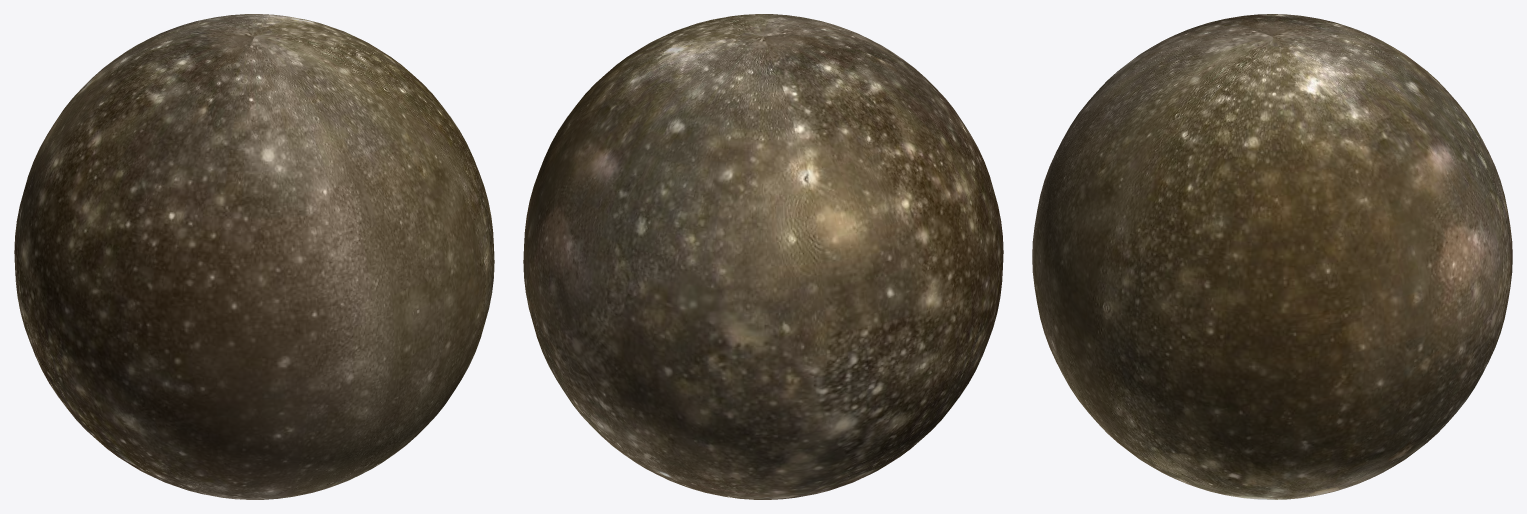
Rendered from callisto.obj.
3 renders of one model, left to right at view 1: azimuth 30°, elevation 25°; view 2: azimuth 150°, elevation 25°; view 3: azimuth 270°, elevation 25°, orthographic.
Visible parts, largest first — view 1: callisto; view 2: callisto; view 3: callisto.
Part boxes in pixels (x1=…): callisto: x1=14, y1=14, x2=494, y2=499; callisto: x1=523, y1=14, x2=1003, y2=499; callisto: x1=1032, y1=14, x2=1512, y2=499.
Size of the model in its own units: 4.92 by 4.97 by 4.92.
Materials: 1 (1 with a texture image).
